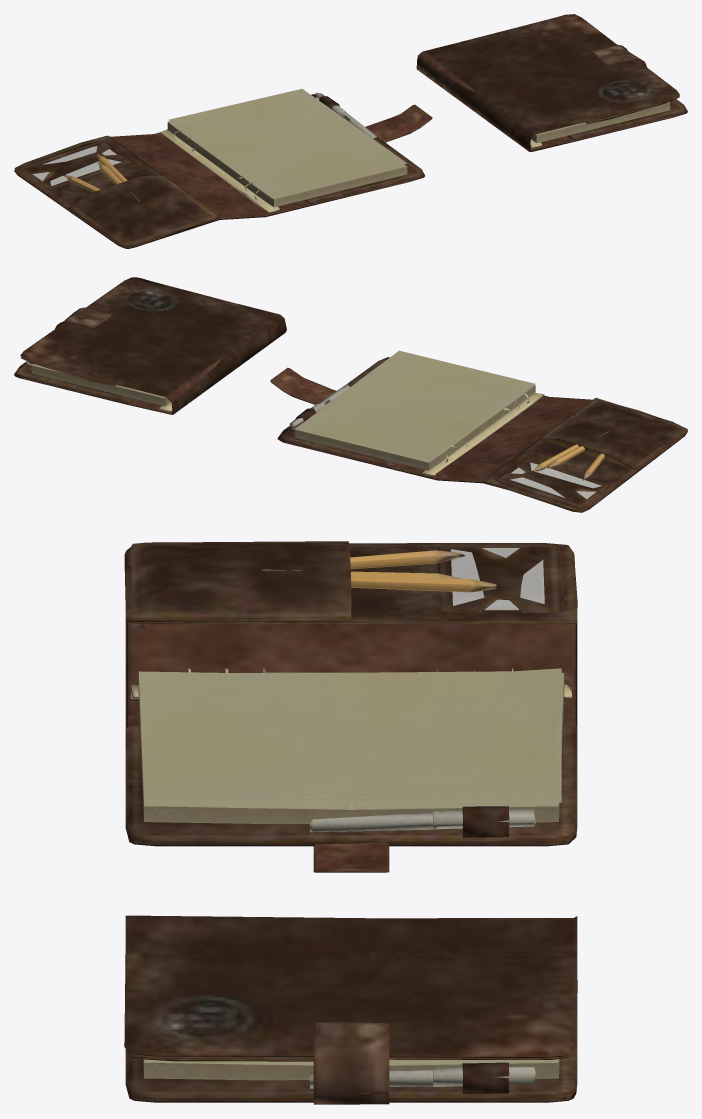
Rendered from books_pile_lod1.glb.
3 renders of one model, top to bottom at view 1: azimuth 30°, elevation 25°; view 2: azimuth 150°, elevation 25°; view 3: azimuth 270°, elevation 25°, orthographic. The views are drawn at different scales.
Size of the model in its own units: 0.5838 by 0.0238 by 0.1996.
Materials: 1 (1 with a texture image).
